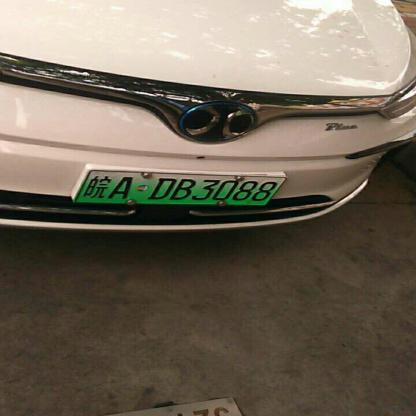lp: (74, 167, 285, 205)
